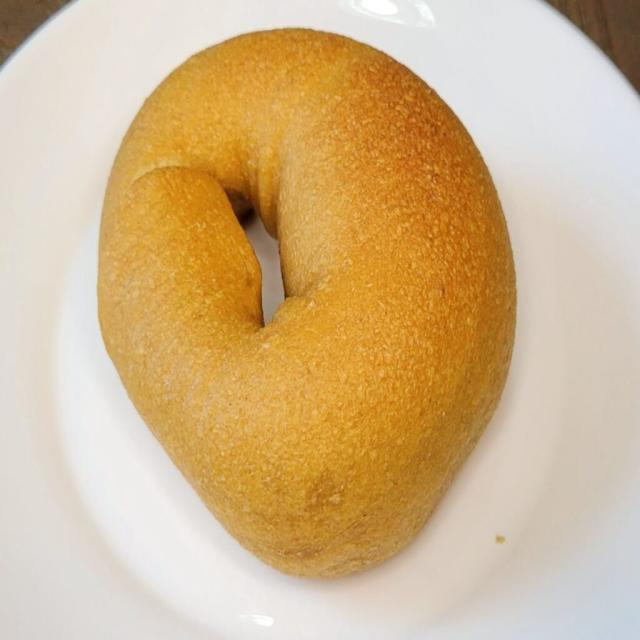Bagel: (99, 28, 516, 577)
